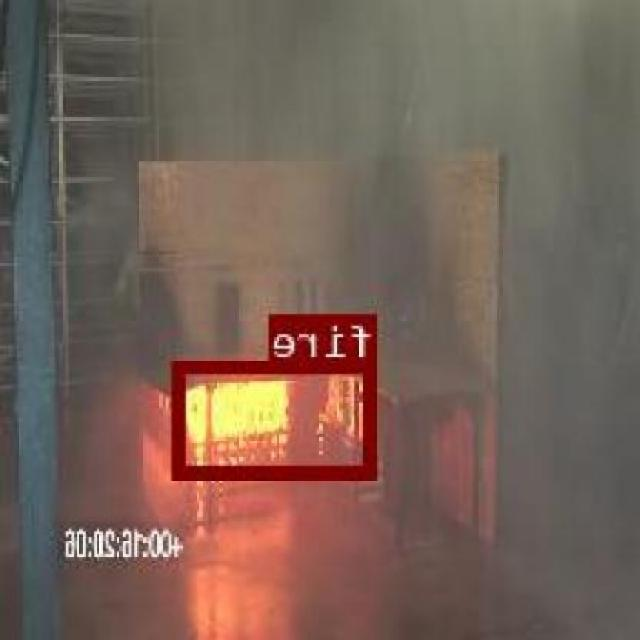Fire: (175, 358, 378, 476)
